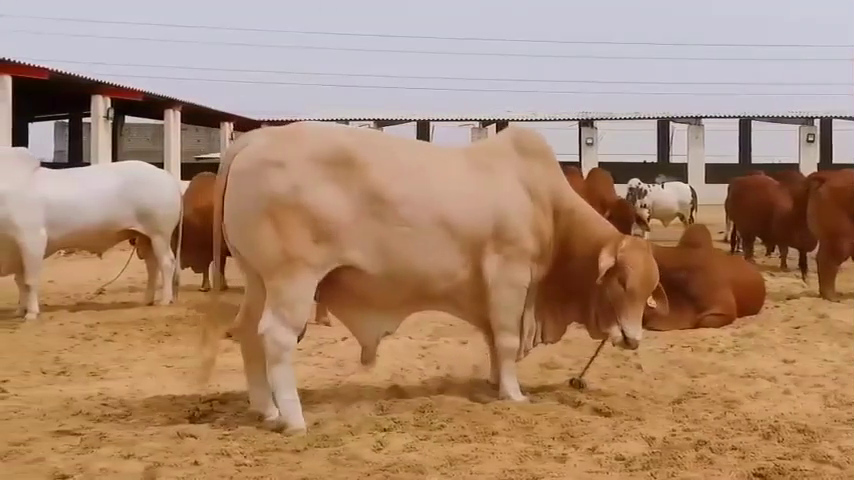bo: (179, 116, 672, 440), (2, 139, 185, 324), (621, 223, 776, 335), (548, 147, 652, 244), (791, 157, 854, 312), (716, 159, 797, 270), (174, 167, 235, 299), (619, 173, 705, 240)
